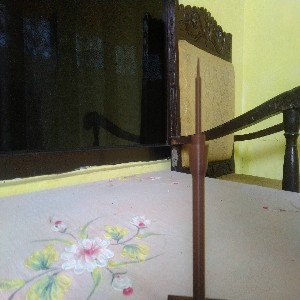solder: (190, 55, 209, 300)
